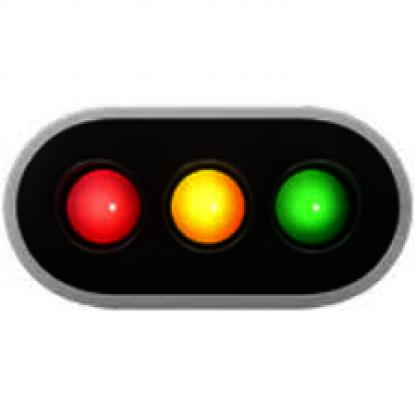traffic-light: (41, 130, 370, 268)
